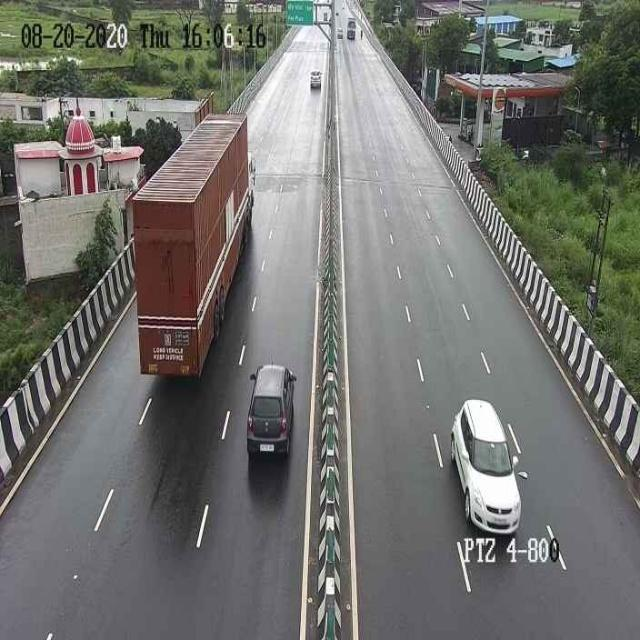car: (448, 396, 527, 541), (244, 358, 295, 469)
